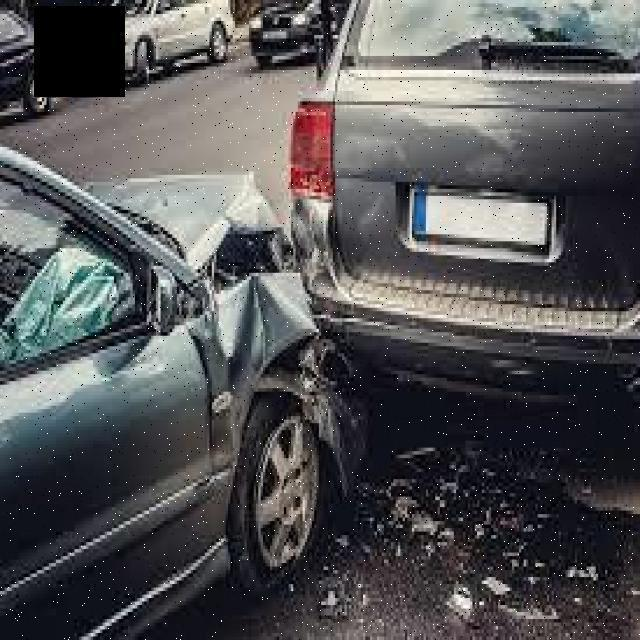multiple_accident: (31, 93, 481, 640)
